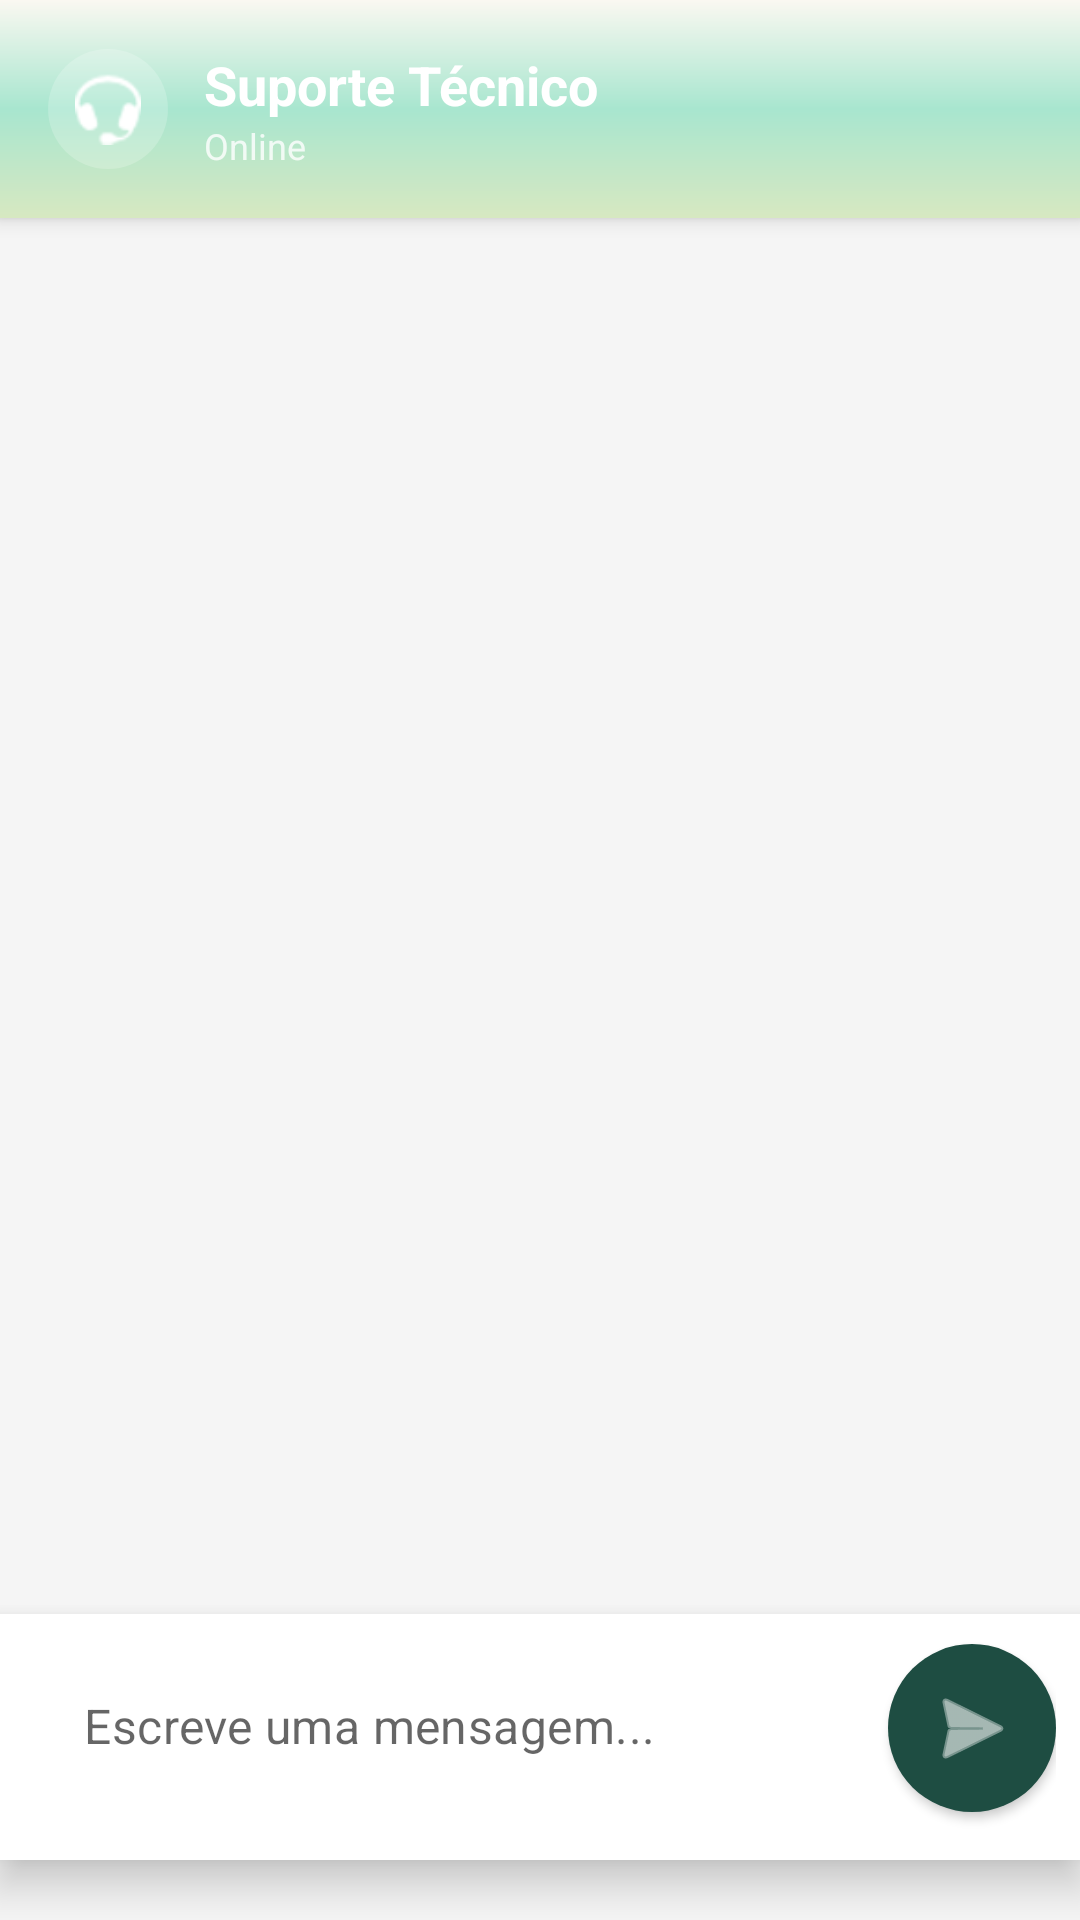

Icon click points for this 1080w x 1920h phone screenshot, format (x,y):
headset: (108,109)
send: (972,1728)
